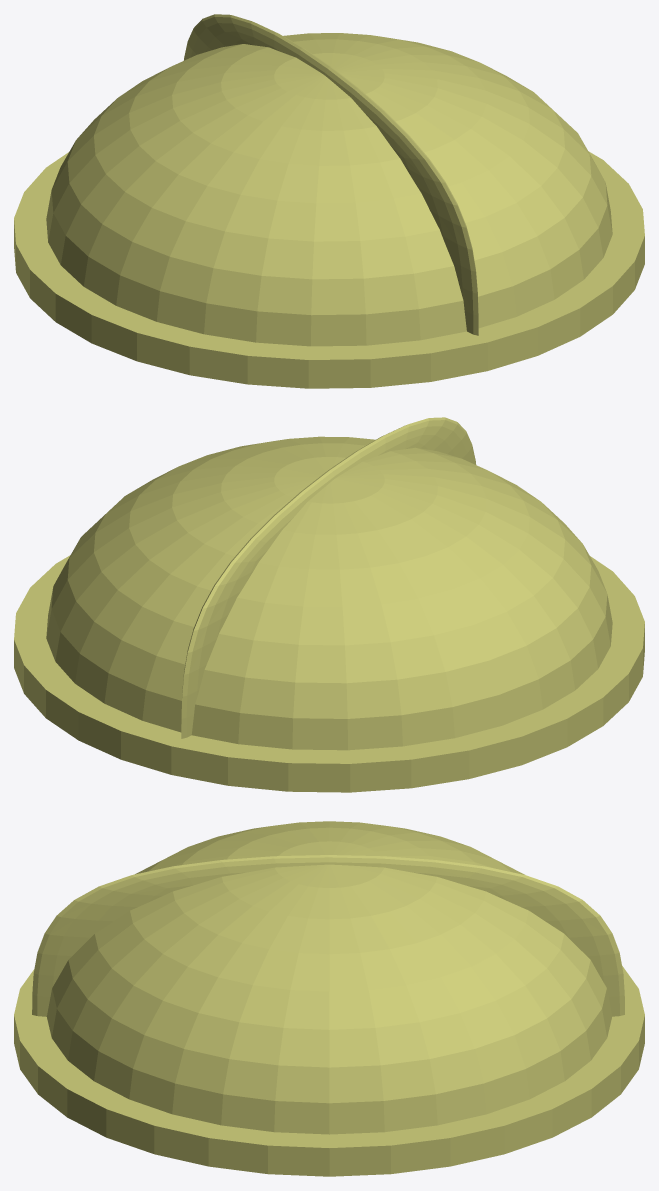
Rendered from historic_helmet.glb.
The picture shows the model from 3 angles, top to bottom: view 1: azimuth 30°, elevation 25°; view 2: azimuth 150°, elevation 25°; view 3: azimuth 270°, elevation 25°; orthographic projection.
Visible parts, largest first — view 1: world; view 2: world; view 3: world.
Part boxes in pixels (<box>): world: <box>14,14,644,388</box>; world: <box>14,417,644,792</box>; world: <box>14,821,644,1176</box>.
Bounding box in the file's own units: 1 × 0.3295 × 1.
